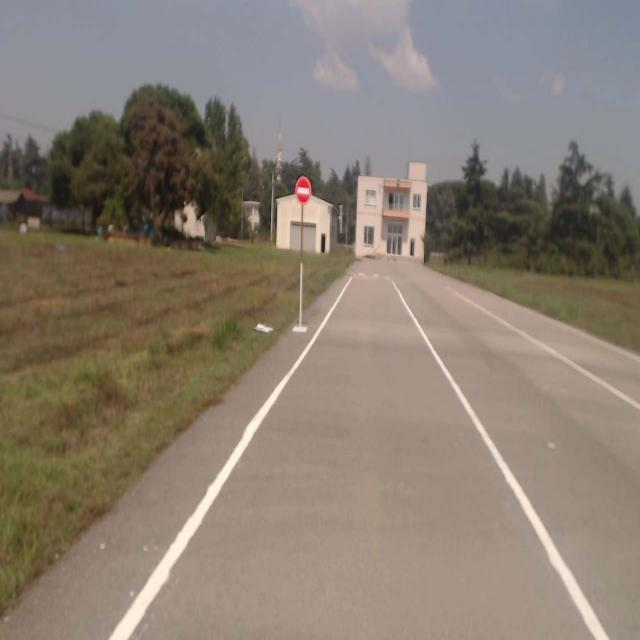girisyok: (296, 176, 312, 204)
